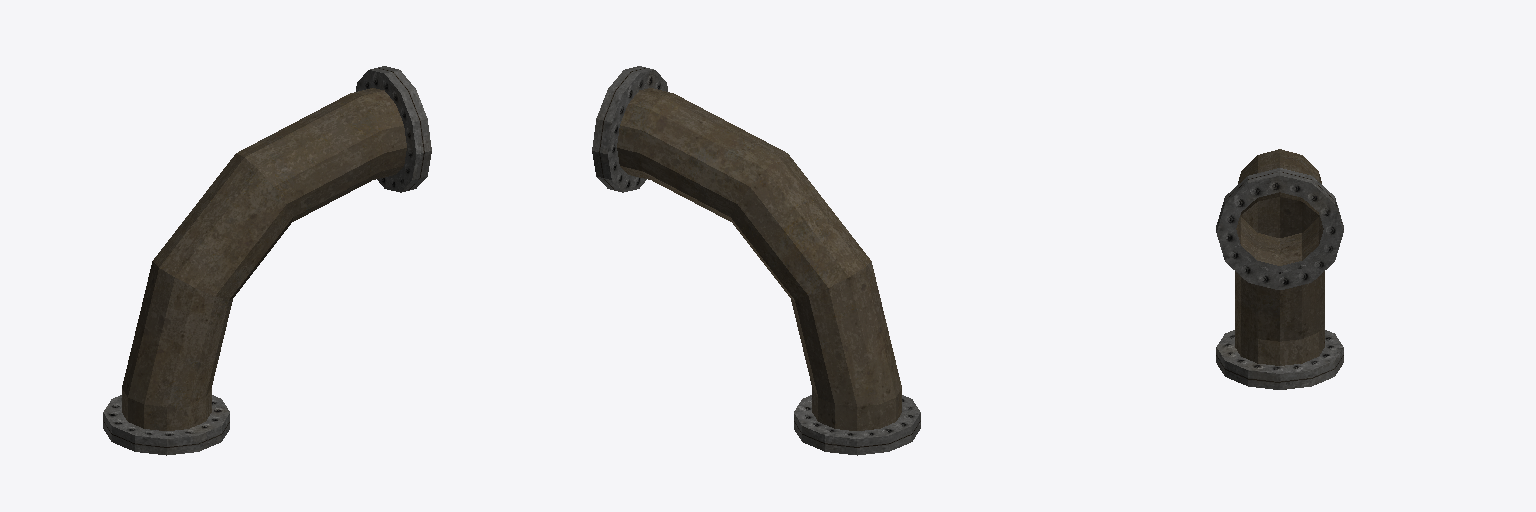
3 views of the same model, side by side, from view 1: azimuth 30°, elevation 25°; view 2: azimuth 150°, elevation 25°; view 3: azimuth 270°, elevation 25° (orthographic).
Parts seen in each view (by area): view 1: cornerpiece_closed_mtl; view 2: cornerpiece_closed_mtl; view 3: cornerpiece_closed_mtl.
Boxes of the visible parts, x1=… form: cornerpiece_closed_mtl: x1=103, y1=66, x2=431, y2=455; cornerpiece_closed_mtl: x1=592, y1=66, x2=920, y2=455; cornerpiece_closed_mtl: x1=1216, y1=149, x2=1343, y2=389.
Size of the model in its own units: 1.85 by 1.85 by 0.7071.
1 materials, 1 textured.